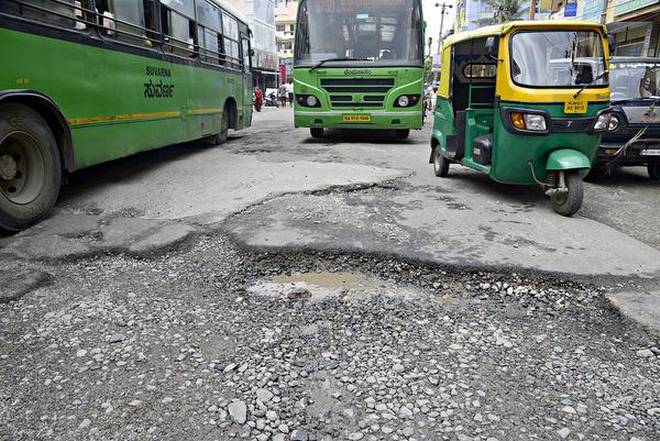pothole: (247, 230, 447, 325)
